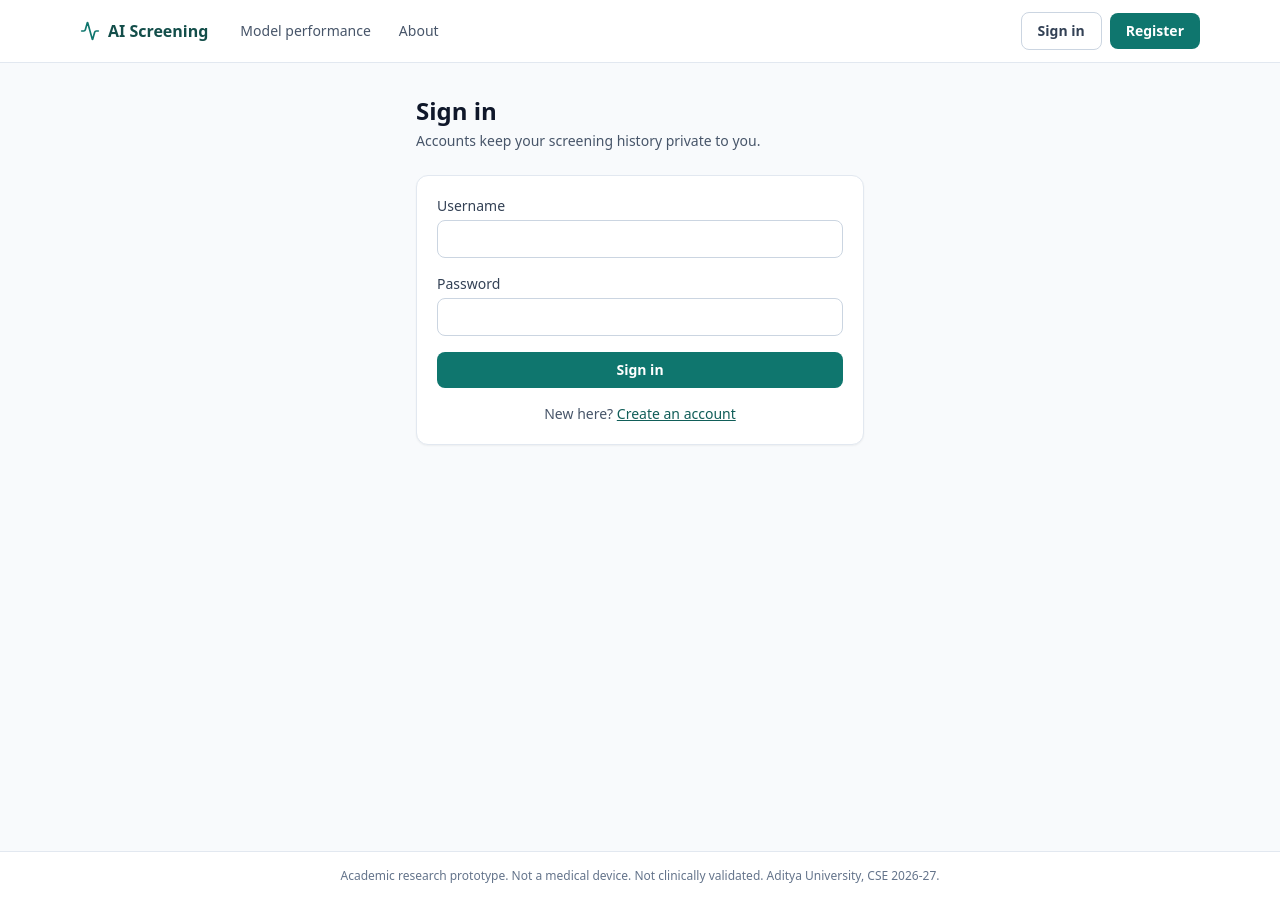
authentication › shows a server error on bad credentials
Type "alice" into the field labelled "Username" at (640, 239), box [437,220,843,258]
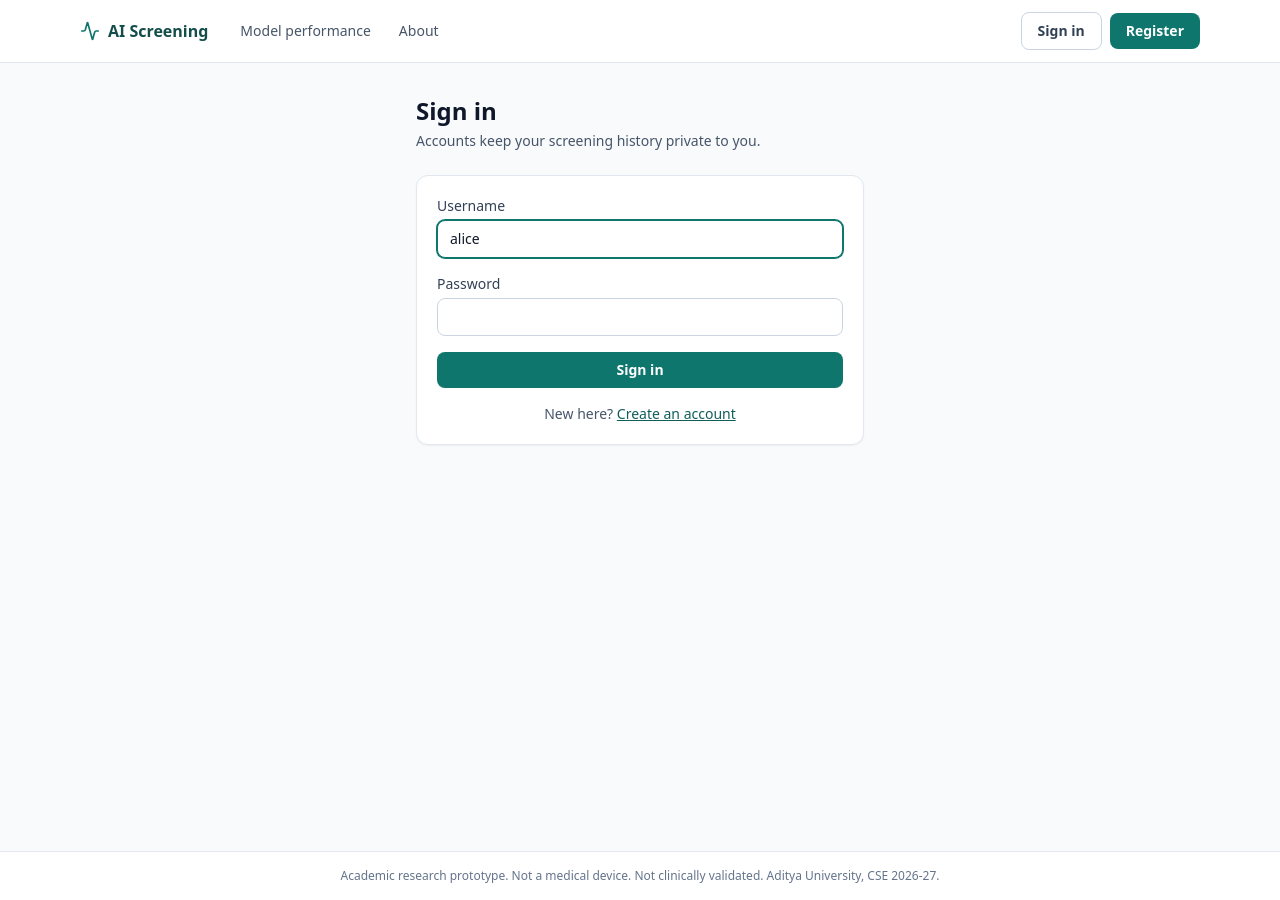
Type "x" into the password field labelled "Password" at (640, 317), box [437,298,843,336]
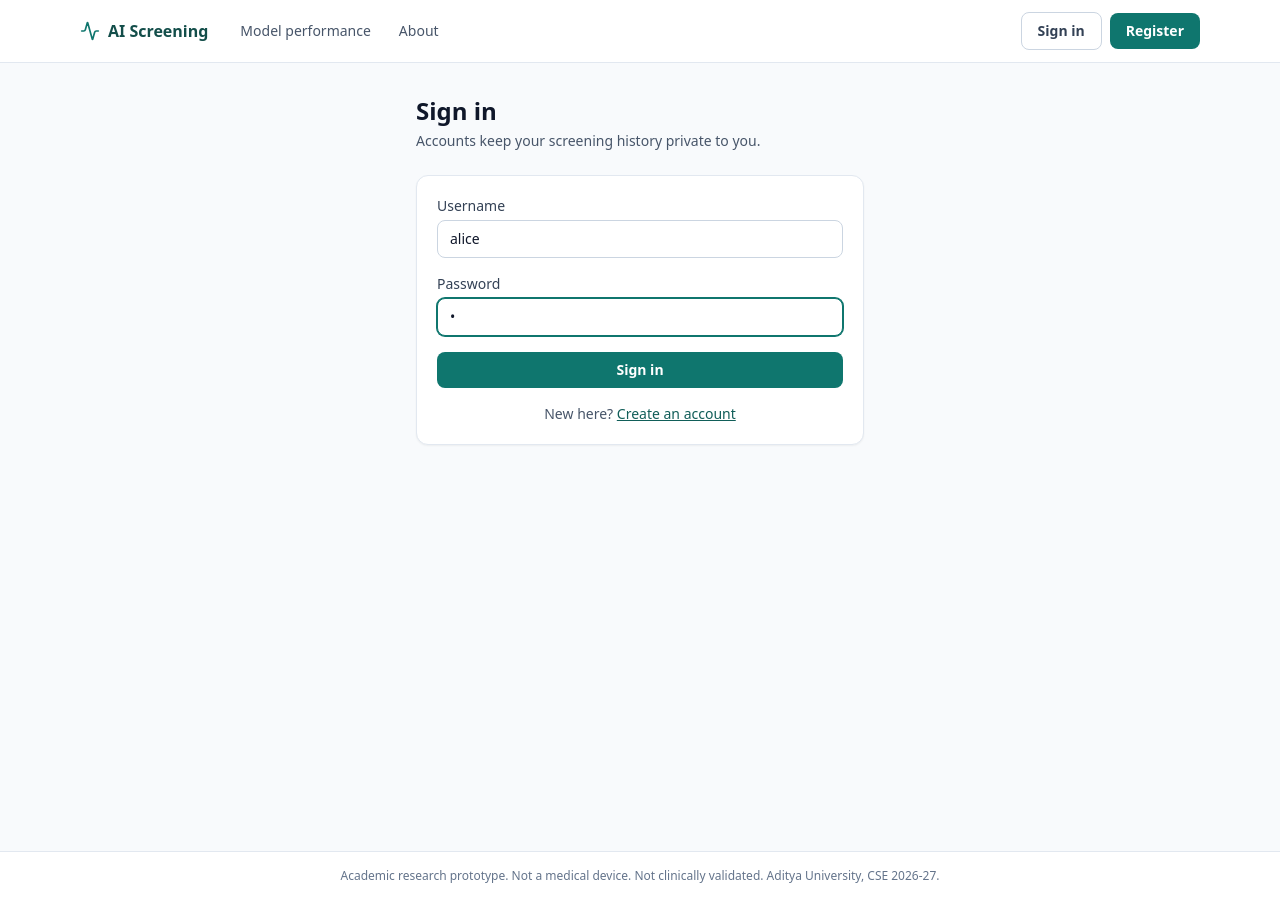
Click the button "Sign in" at (640, 370), box [437,352,843,388]
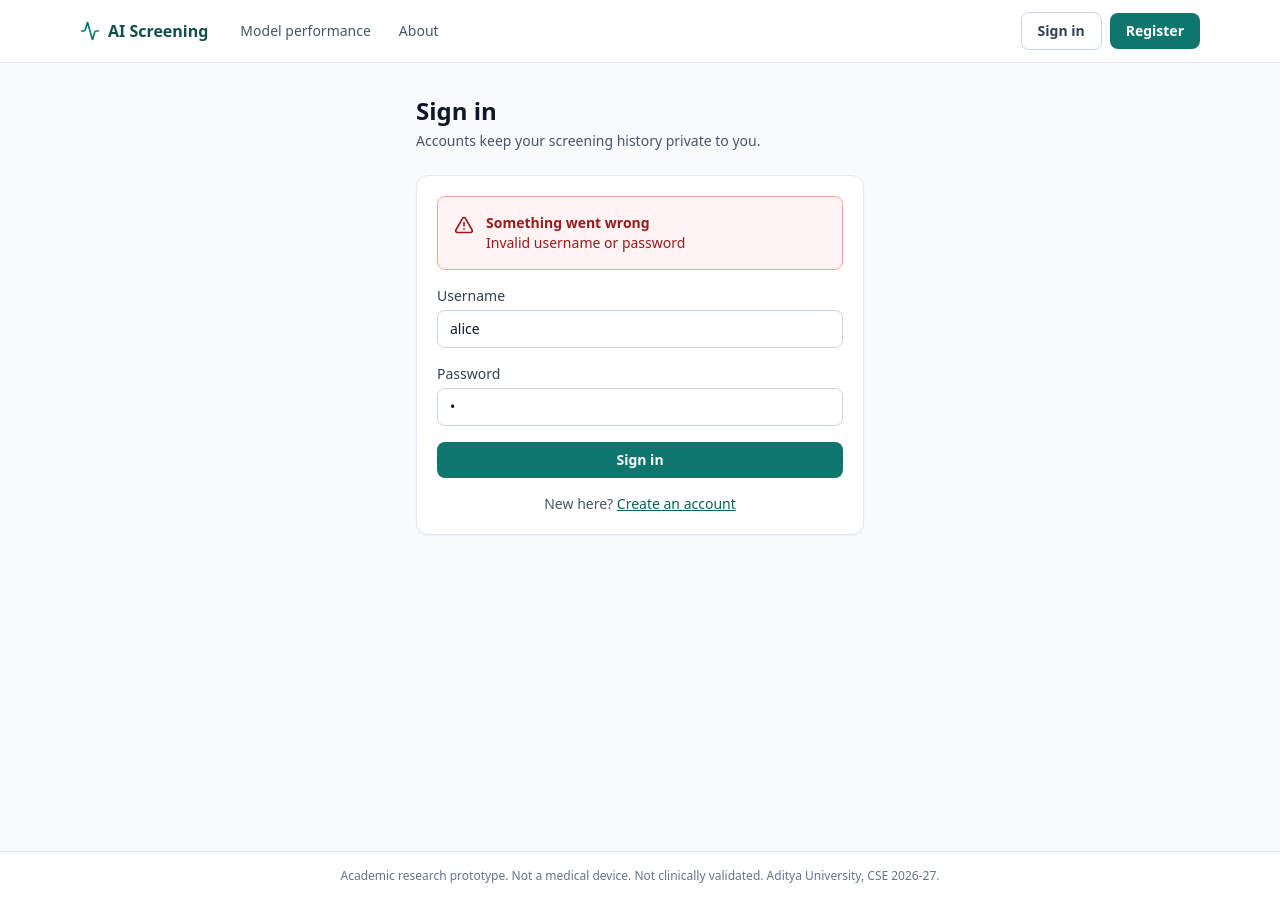
Expected: the message shows "Invalid username or password", [486,233,685,252]
